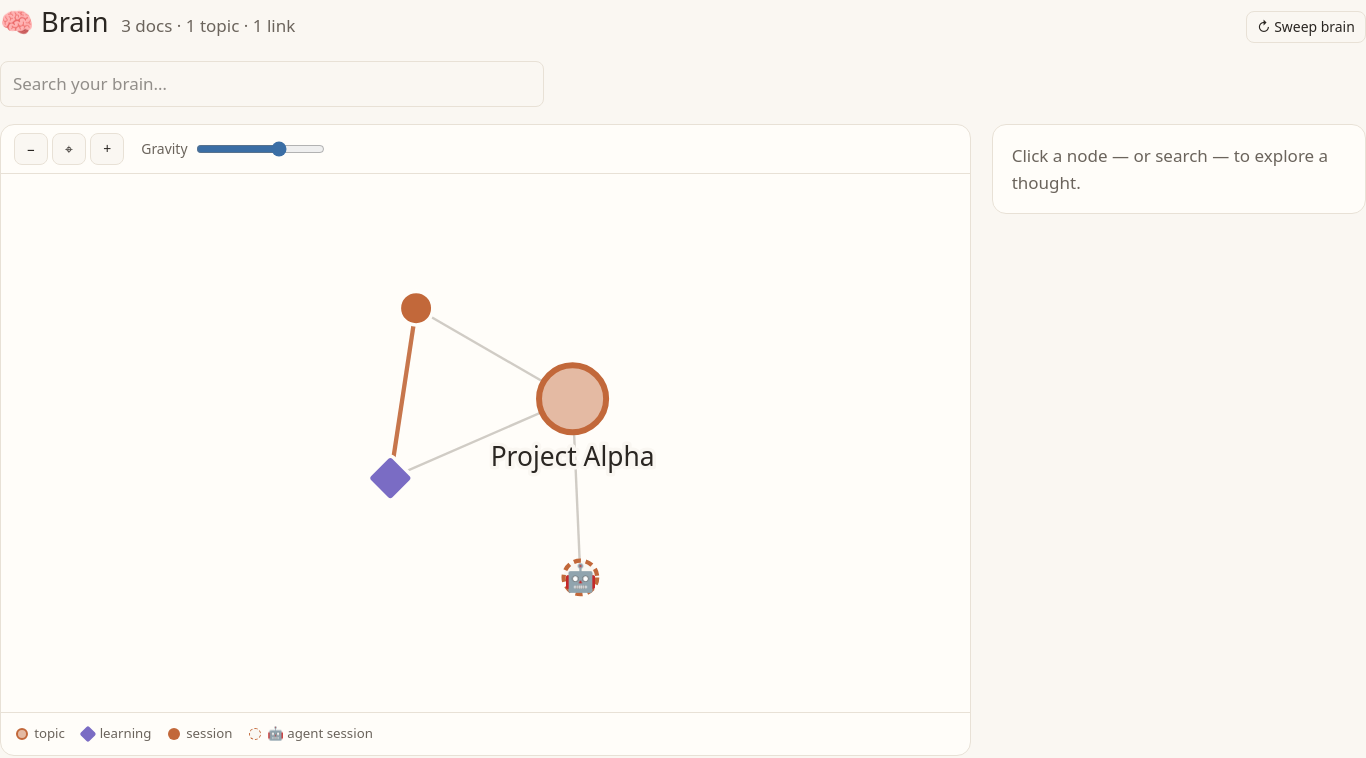
Test case: BrainView › searches after a pause and opens the topic detail from a result
The image size is (1366, 758).
Step 1. Type "project-alpha" into the field with placeholder "Search your brain…" → (272, 84), box [0,60,544,107]
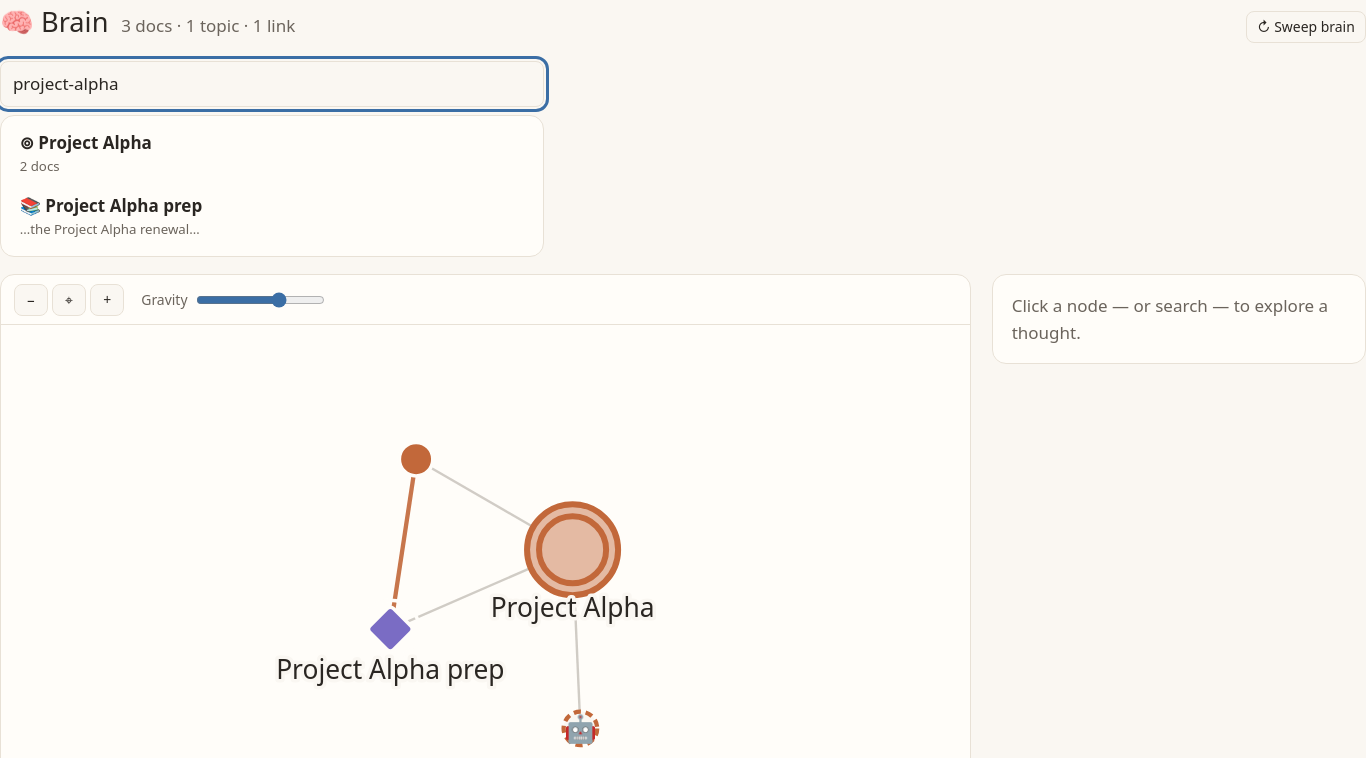
Step 2. Click the button "⊚ Project Alpha 2 docs" → (95, 143), box [10,125,534,185]
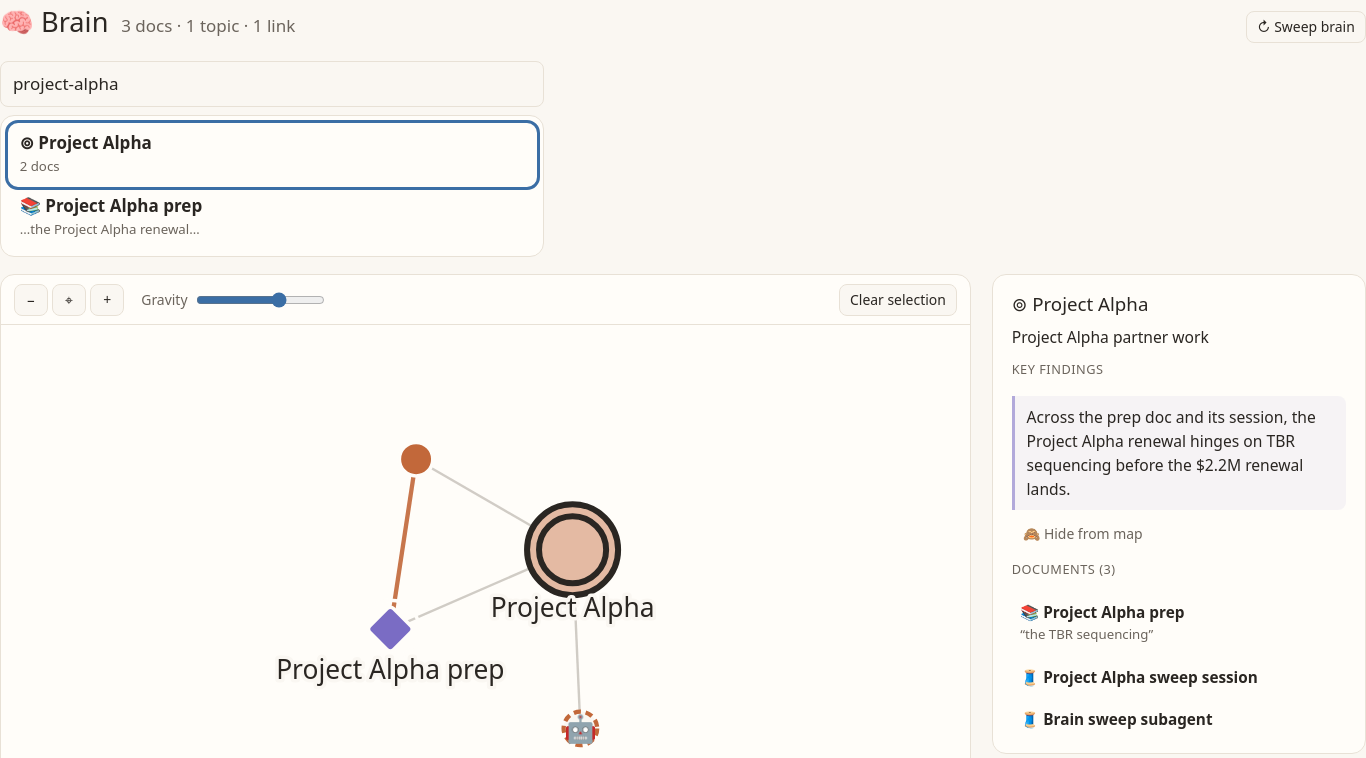
Expected: the text "Project Alpha partner work" is shown, [1012,326,1209,348]
Expected: the text "“the TBR sequencing”" is shown, [1020,624,1153,646]
